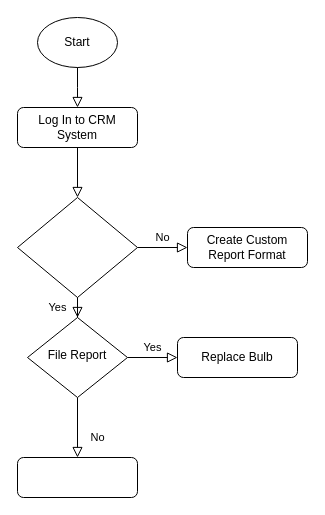
This 325x515 diagram has some shape labels left out. Here are the shapes that lost their labels. From the top down, the centre of each, then its label:
pixel 77 247: Report Format Already Exists?
pixel 77 477: Repair Lamp
